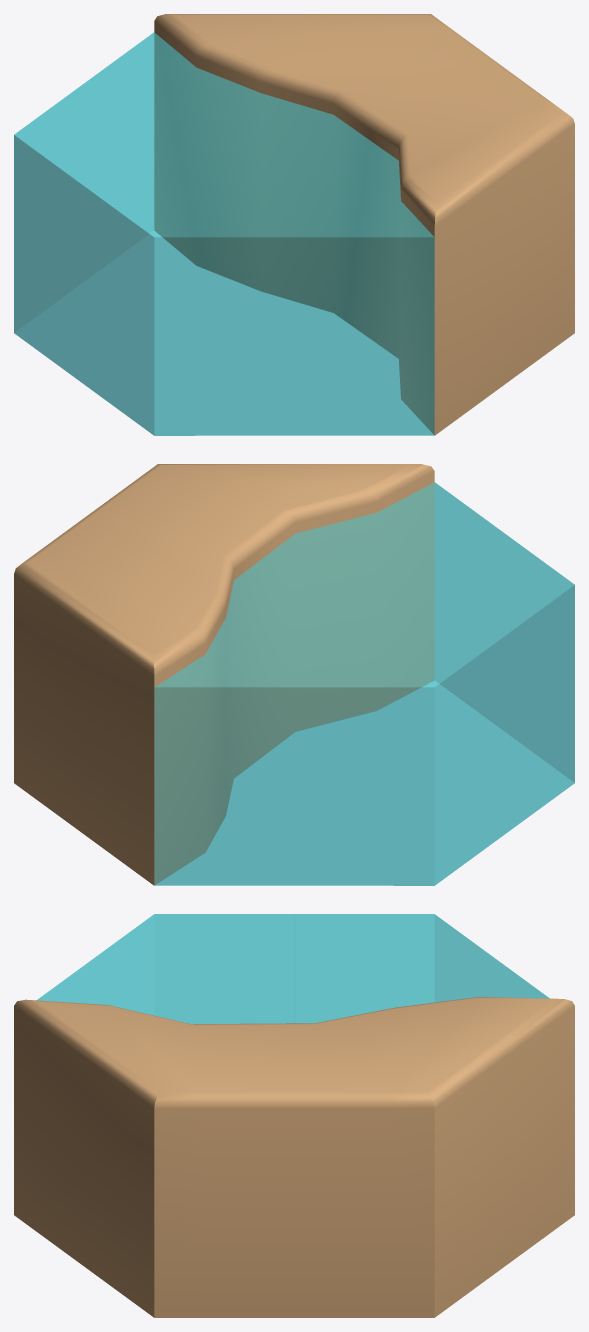
File: hex_sand_waterC.fbx
3 renders of one model, top to bottom at view 1: azimuth 30°, elevation 25°; view 2: azimuth 150°, elevation 25°; view 3: azimuth 270°, elevation 25°, orthographic.
Visible parts, largest first — view 1: hex_sand_waterC; view 2: hex_sand_waterC; view 3: hex_sand_waterC.
Boxes of the visible parts, bbox=[...] form: hex_sand_waterC: bbox=[14, 14, 574, 435]; hex_sand_waterC: bbox=[14, 464, 574, 885]; hex_sand_waterC: bbox=[14, 914, 574, 1317].
Size of the model in its own units: 2 by 1 by 2.31.
